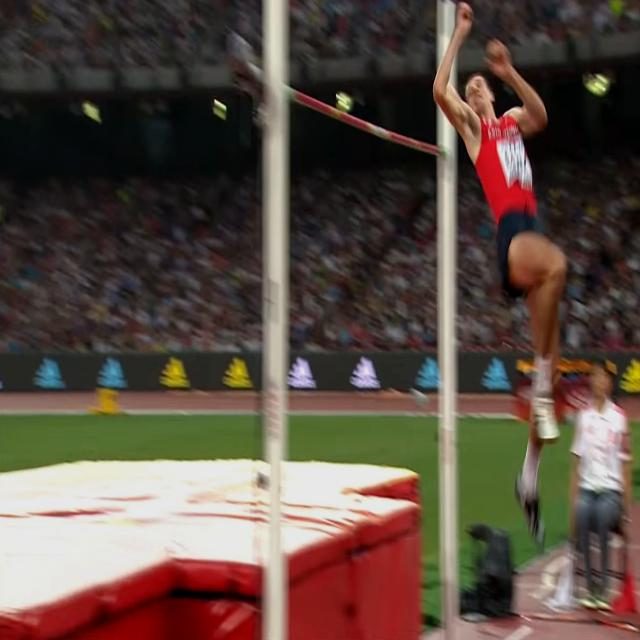jump: (433, 0, 566, 549)
